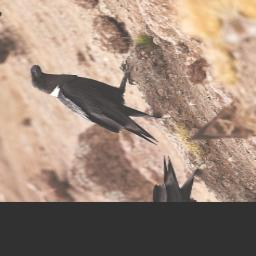Crow: (17, 34, 187, 170)
